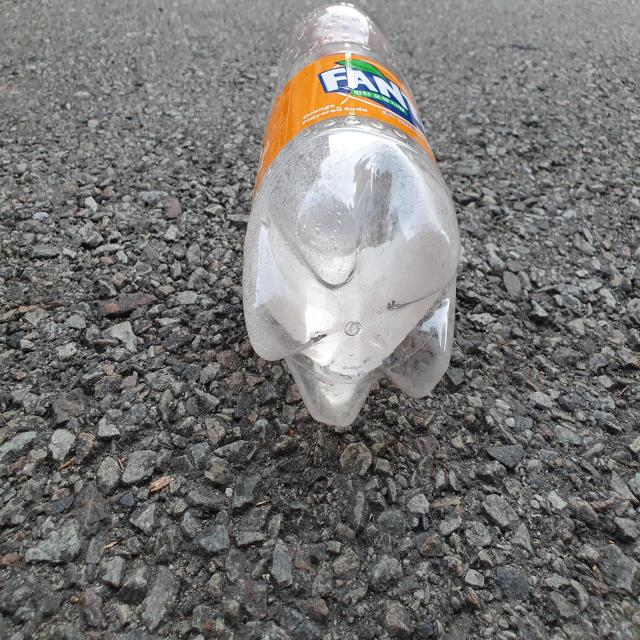plastic: (243, 3, 461, 427)
